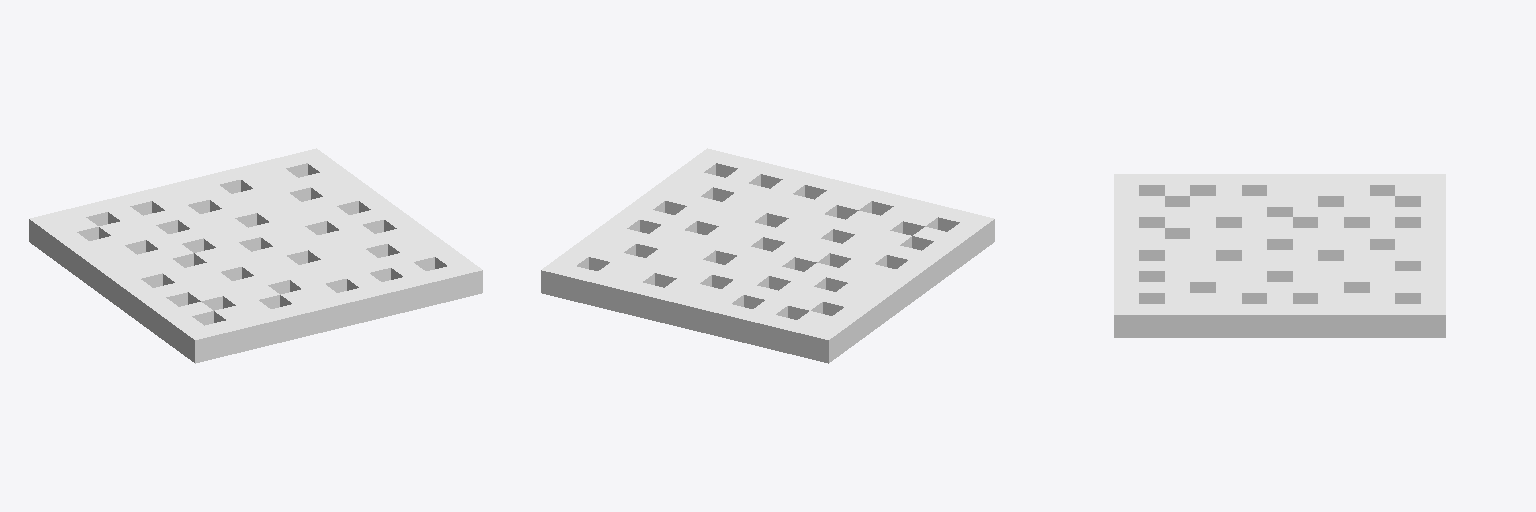
File: swisscheese.obj
3 views of the same model, side by side, from view 1: azimuth 30°, elevation 25°; view 2: azimuth 150°, elevation 25°; view 3: azimuth 270°, elevation 25° (orthographic).
Size of the model in its own units: 13 by 1 by 13.